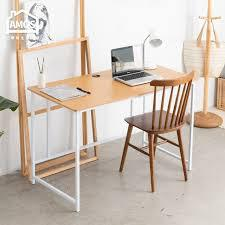desk: (10, 2, 205, 210)
